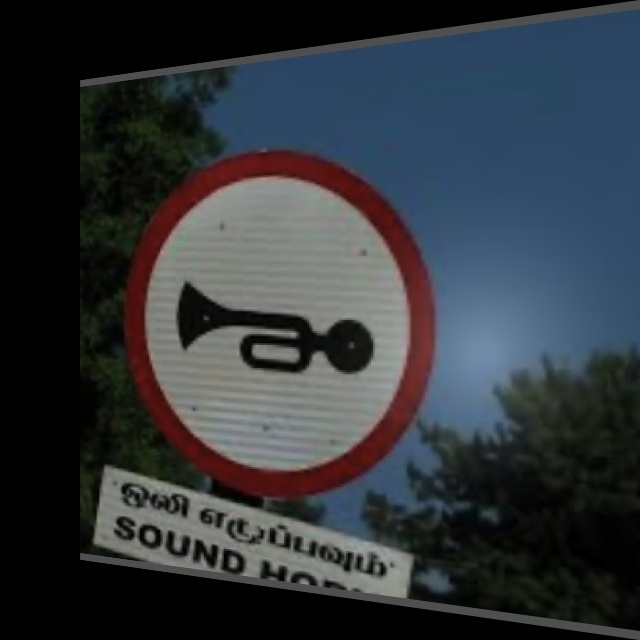Compulsory_Sound_Horn: (144, 147, 434, 482)
